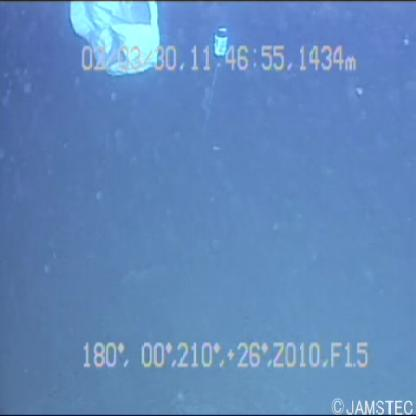Rác: (57, 1, 173, 81)
